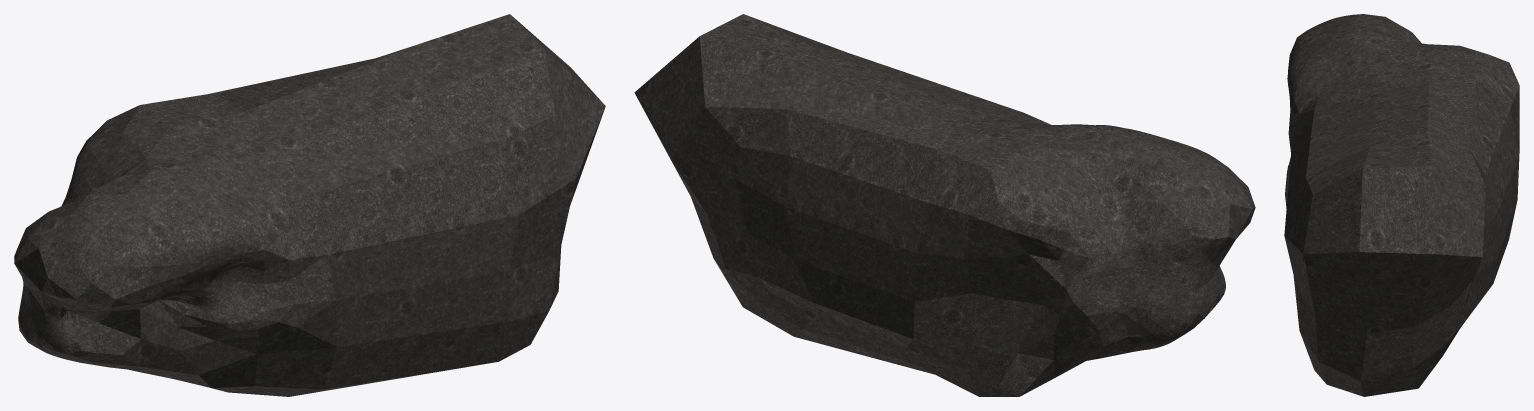
Rendered from Meteorito de Bendegó.fbx.
3 views of the same model, side by side, from view 1: azimuth 30°, elevation 25°; view 2: azimuth 150°, elevation 25°; view 3: azimuth 270°, elevation 25° (orthographic). The views are drawn at different scales.
Parts seen in each view (by area): view 1: Quad Sphere; view 2: Quad Sphere; view 3: Quad Sphere.
Boxes of the visible parts, <box> form: Quad Sphere: <box>14,14,605,396</box>; Quad Sphere: <box>634,14,1255,396</box>; Quad Sphere: <box>1284,14,1519,396</box>.
Bounding box in the file's own units: 492 × 240 × 200.
1 material, 1 textured.
